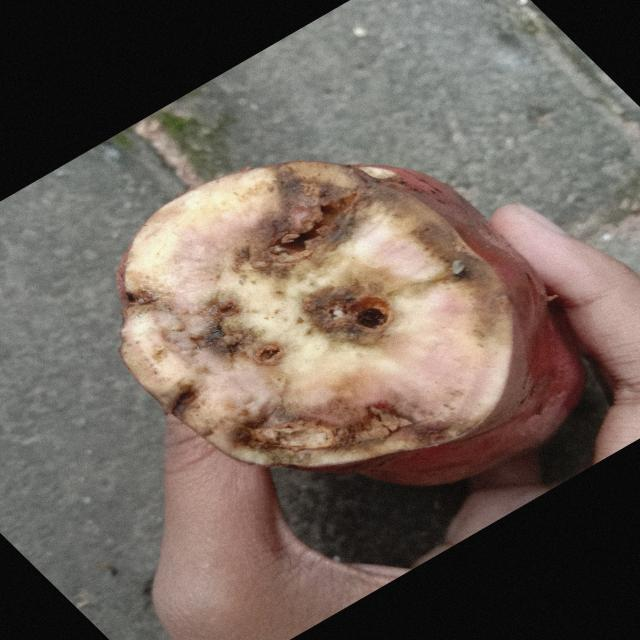Sick Sweet Potato_Tuber Rot: (120, 161, 545, 468)
